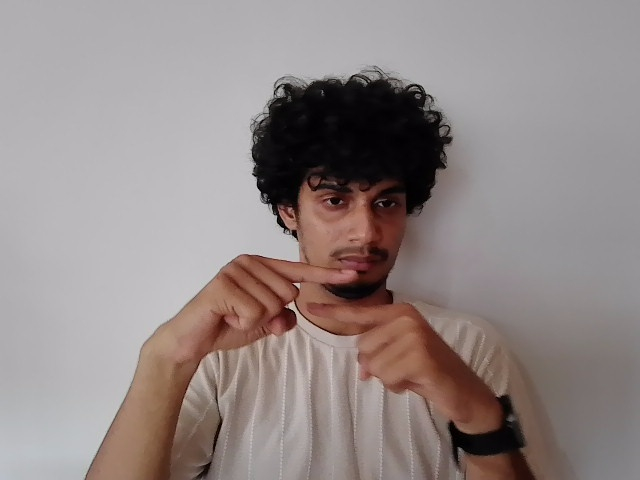about: (141, 254, 489, 395)
